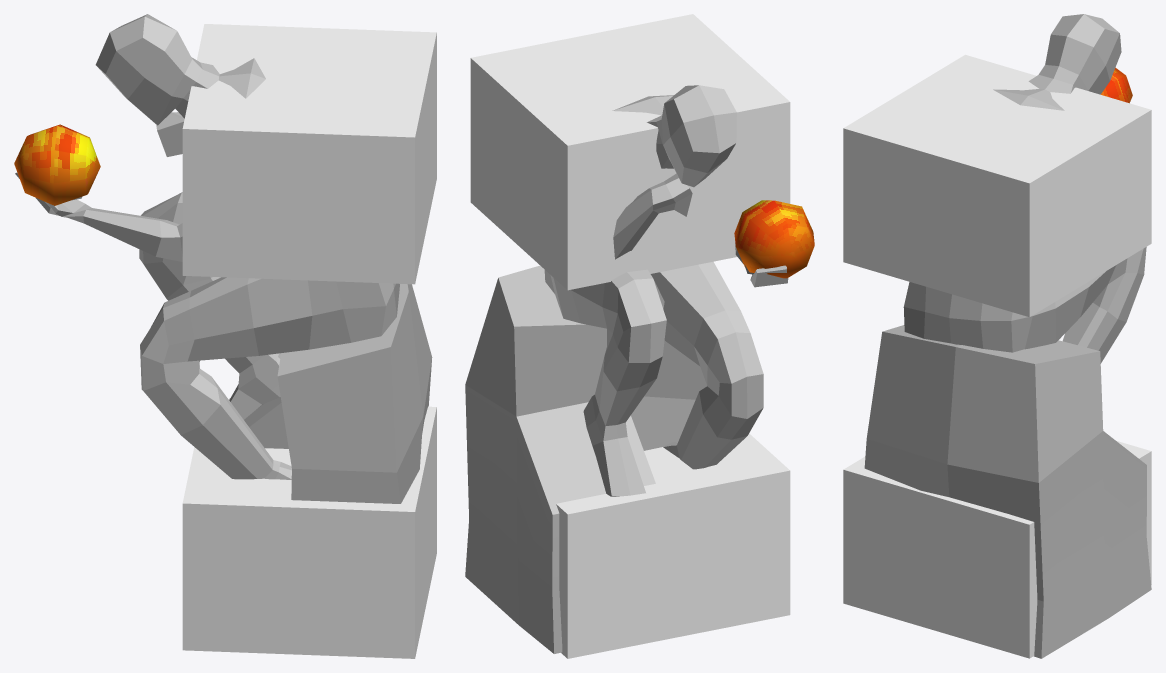
The model's file is Statue (3).fbx.
The picture shows the model from 3 angles, left to right: view 1: azimuth 30°, elevation 25°; view 2: azimuth 150°, elevation 25°; view 3: azimuth 270°, elevation 25°; orthographic projection. The views are drawn at different scales.
Visible parts, largest first — view 1: Statue (3), Cube, Cube (1), Sphere_8; view 2: Statue (3), Cube, Cube (1), Sphere_8; view 3: Statue (3), Cube, Cube (1), Sphere_8.
Part boxes in pixels (bbox=[...]): Statue (3): bbox=[15, 14, 432, 503]; Cube: bbox=[182, 24, 436, 284]; Cube (1): bbox=[182, 399, 436, 658]; Sphere_8: bbox=[14, 124, 100, 205]; Statue (3): bbox=[465, 85, 788, 653]; Cube: bbox=[470, 14, 790, 290]; Cube (1): bbox=[556, 433, 790, 658]; Sphere_8: bbox=[734, 200, 814, 278]; Statue (3): bbox=[864, 14, 1151, 658]; Cube: bbox=[843, 54, 1151, 317]; Cube (1): bbox=[843, 440, 1151, 658]; Sphere_8: bbox=[1101, 67, 1132, 103].
Size of the model in its own units: 5.44 by 7.9 by 4.18.
